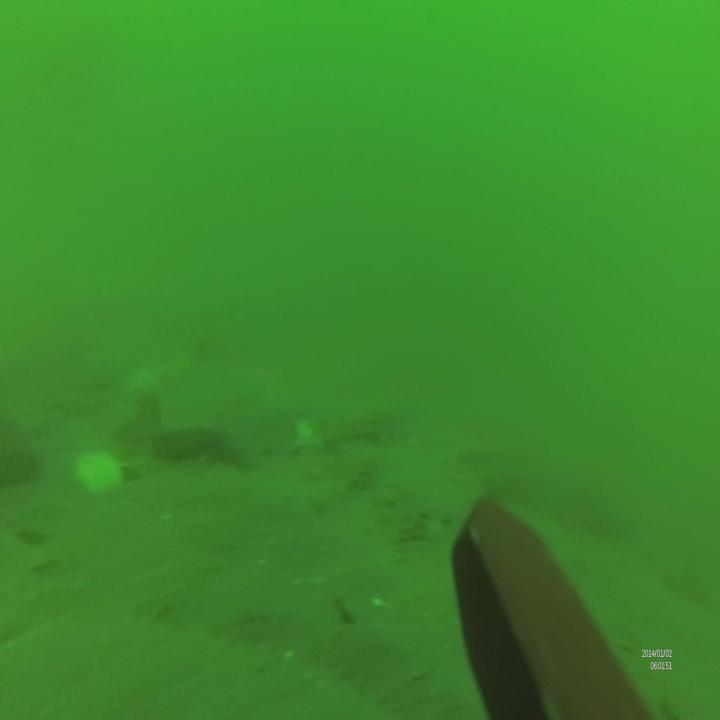scallop: (76, 452, 126, 492)
